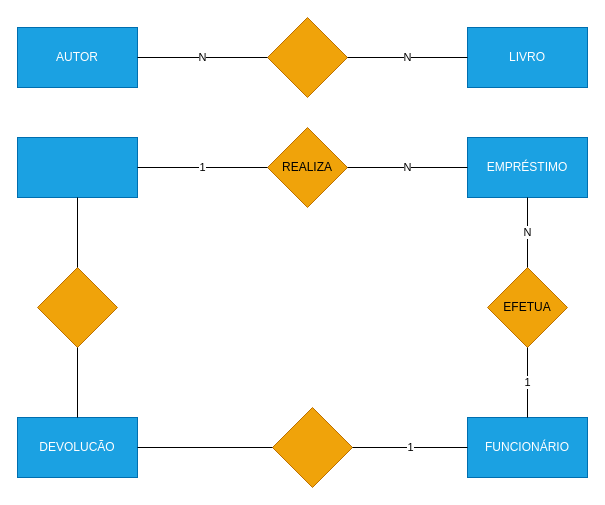
Image size: 605x505. Some labels were removed from this diagram. The box of each missing label's shape, as (x1, y1, x2, y2) in pixels:
ALUNO: (16, 136, 138, 198)
CONCLUI: (272, 406, 352, 488)
ECREVE: (266, 16, 348, 98)
SOLICITA: (36, 266, 118, 348)
